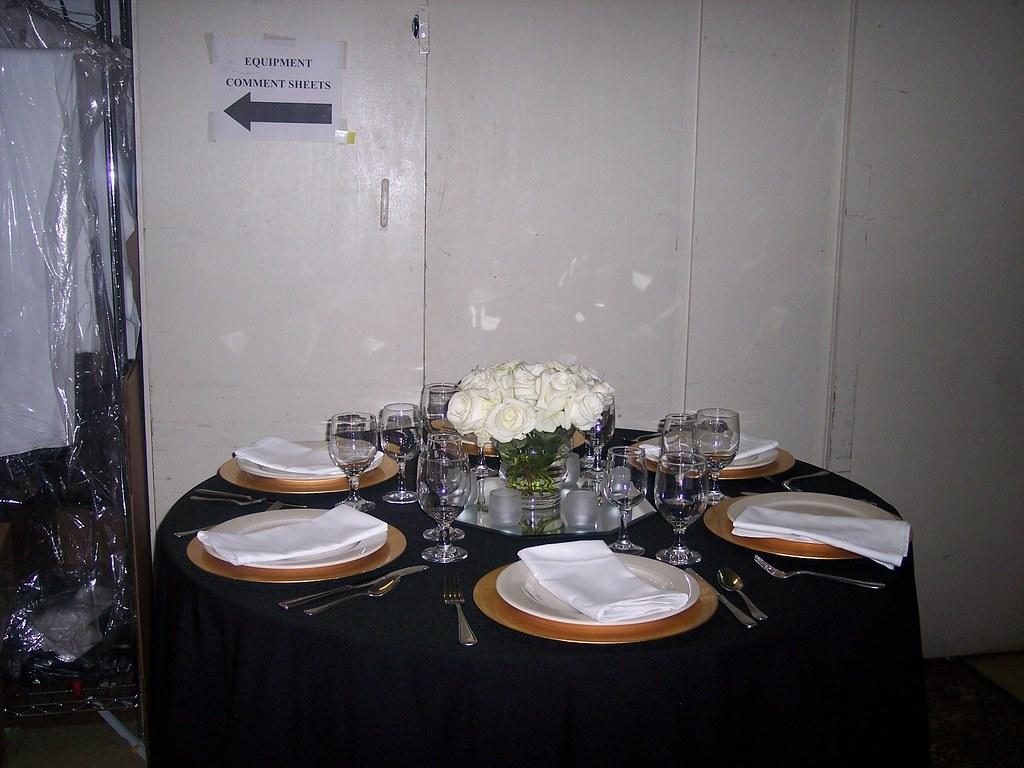table: (152, 419, 929, 767)
